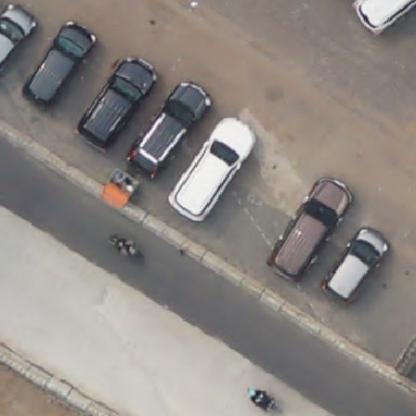Car: (172, 118, 254, 222), (81, 59, 156, 140), (274, 179, 336, 276), (132, 84, 207, 162), (22, 24, 90, 101), (332, 223, 391, 306), (351, 0, 415, 38), (0, 3, 32, 65)
Motorcycle: (103, 229, 147, 263), (245, 385, 290, 415)
